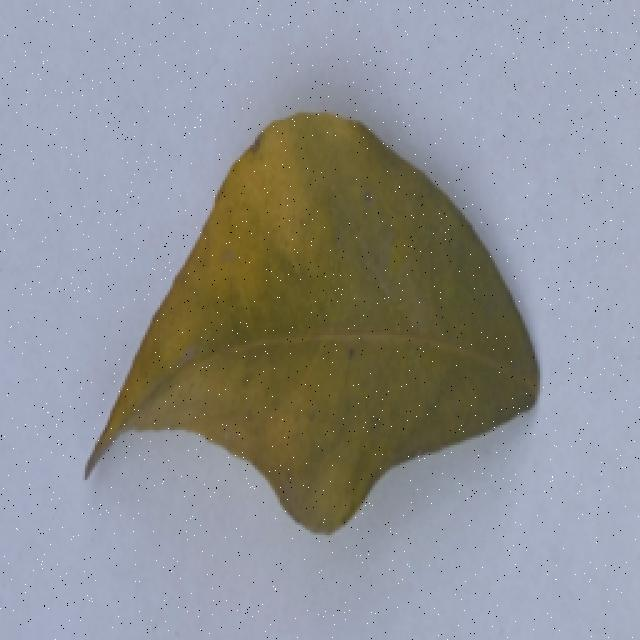greening: (66, 104, 558, 526)
